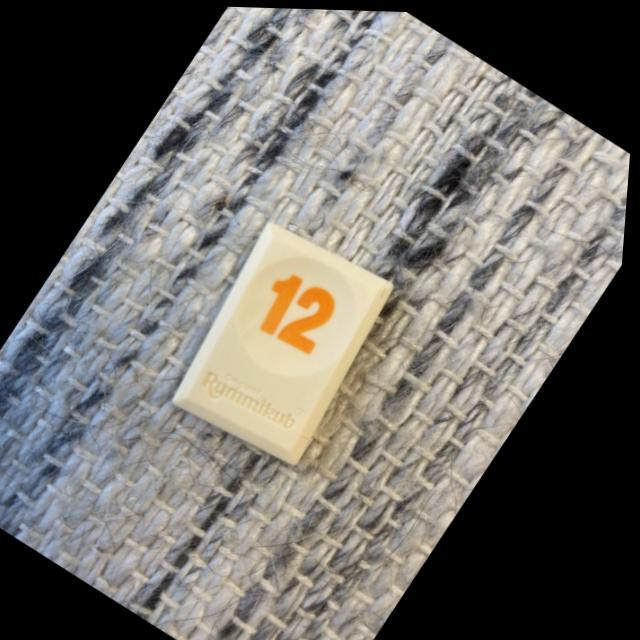orange_12: (179, 221, 397, 463)
